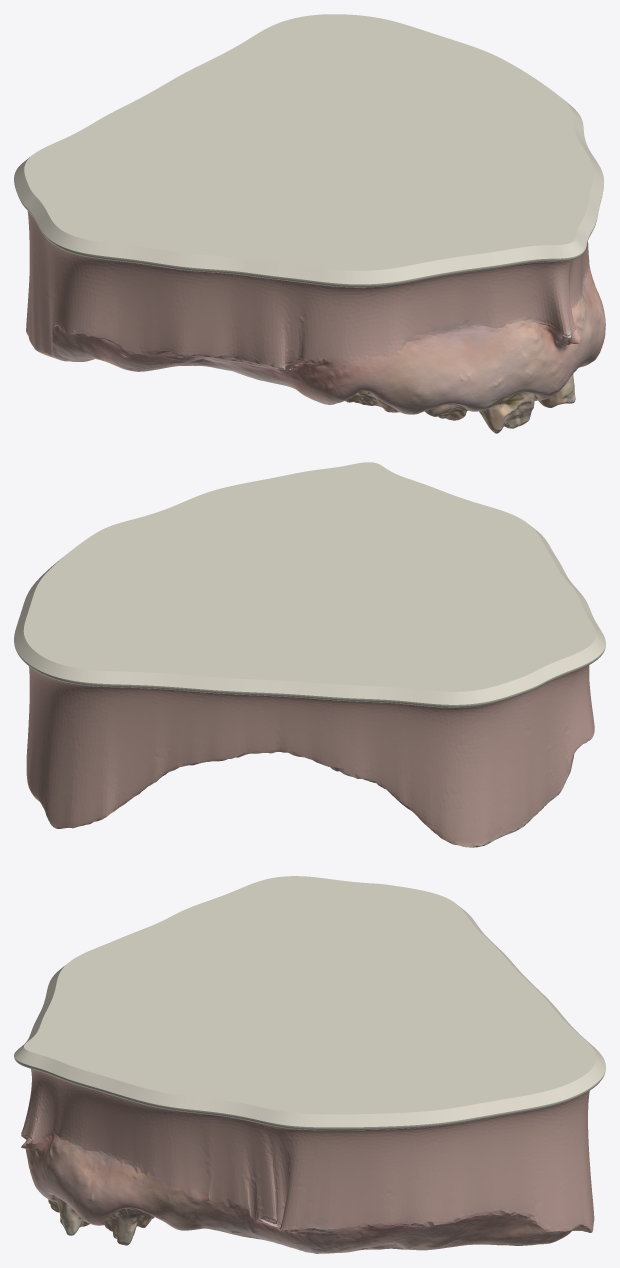
Rendered from upper-5.glb.
3 renders of one model, top to bottom at view 1: azimuth 30°, elevation 25°; view 2: azimuth 150°, elevation 25°; view 3: azimuth 270°, elevation 25°, orthographic. The views are drawn at different scales.
Visible parts, largest first — view 1: 5.ply; view 2: 5.ply; view 3: 5.ply.
Boxes of the visible parts, left/top/right/bottom form: 5.ply: left=14, top=14, right=605, bottom=433; 5.ply: left=14, top=462, right=605, bottom=847; 5.ply: left=14, top=876, right=605, bottom=1253.
Bounding box in the file's own units: 59.42 × 20.23 × 60.29.
